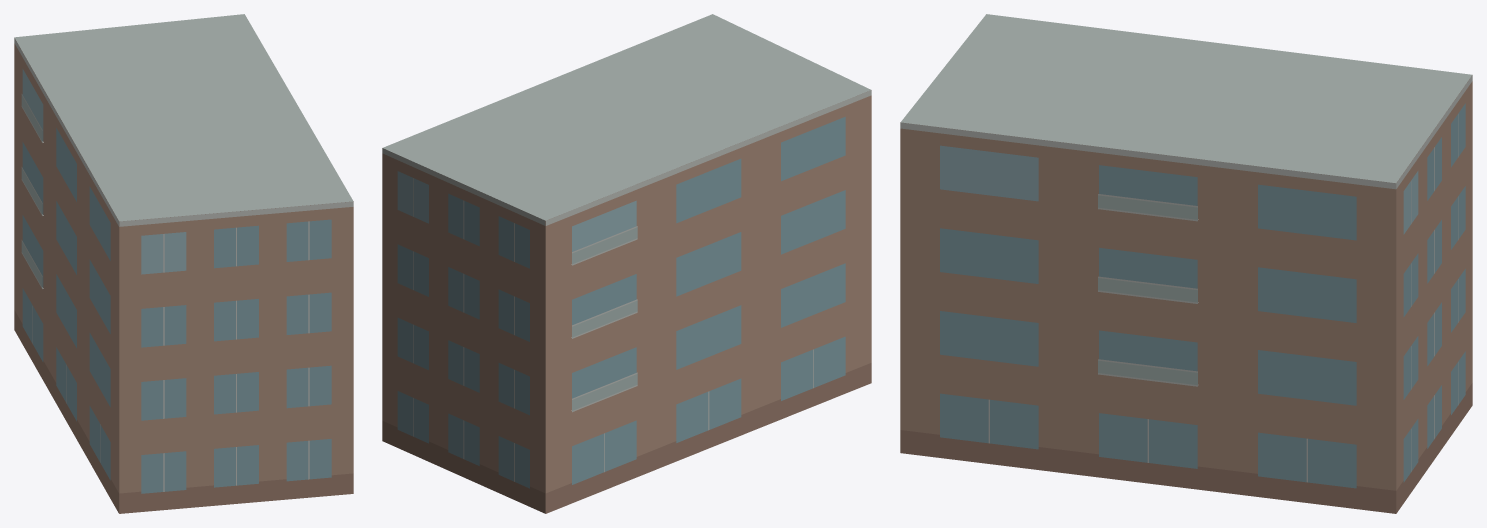
The model's file is survey-upis-32879214.glb.
The picture shows the model from 3 angles, left to right: view 1: azimuth 30°, elevation 25°; view 2: azimuth 150°, elevation 25°; view 3: azimuth 270°, elevation 25°; orthographic projection. The views are drawn at different scales.
Parts seen in each view (by area): view 1: survey-upis-32879214.tmp; view 2: survey-upis-32879214.tmp; view 3: survey-upis-32879214.tmp.
Part boxes in pixels (x1,y1,x2,y2): survey-upis-32879214.tmp: (14,14,353,513); survey-upis-32879214.tmp: (382,14,871,513); survey-upis-32879214.tmp: (900,14,1472,513).
Bounding box in the file's own units: 14.55 × 13.25 × 20.79.
